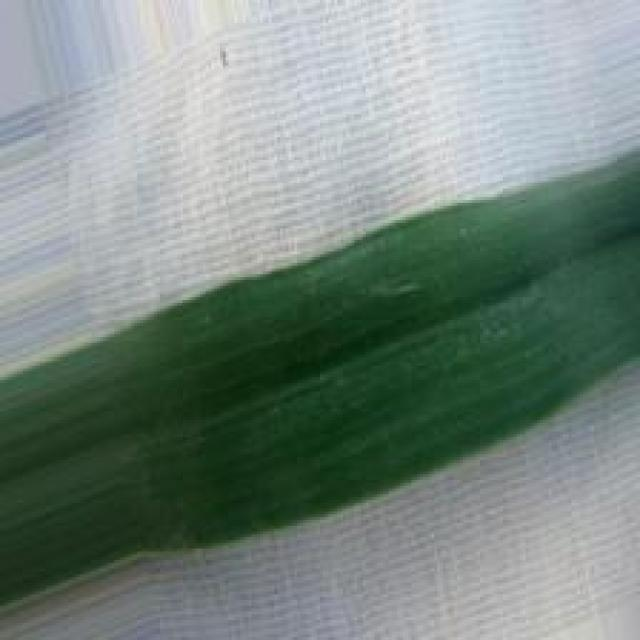Healthy: (0, 151, 640, 611)
